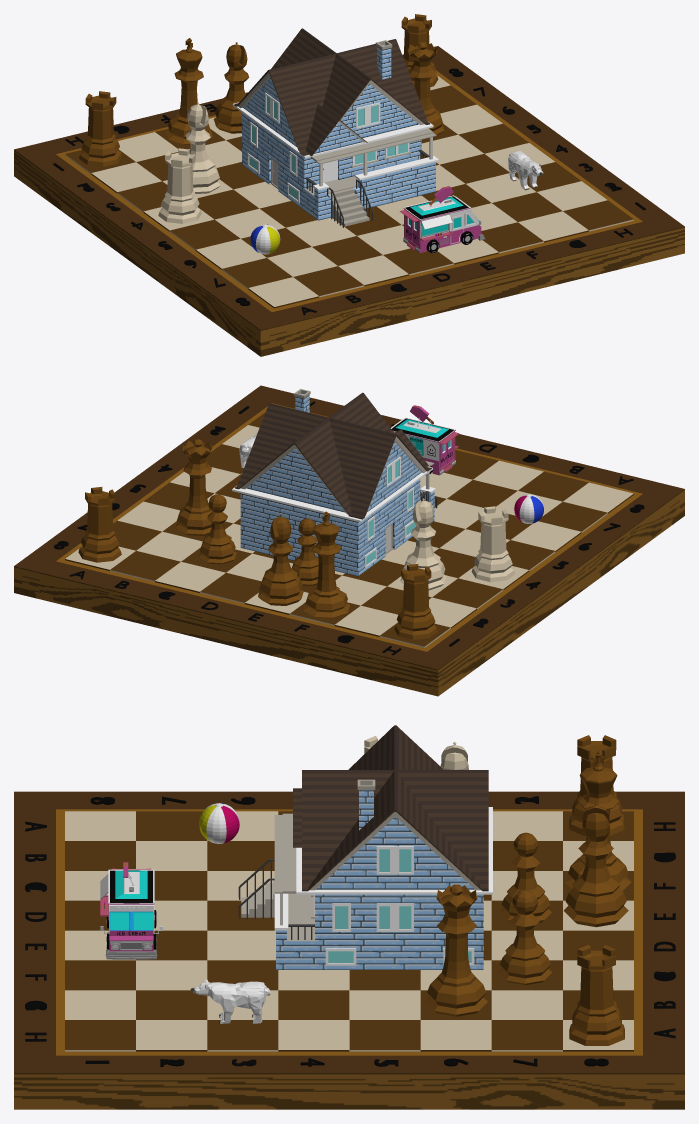
3 renders of one model, top to bottom at view 1: azimuth 30°, elevation 25°; view 2: azimuth 150°, elevation 25°; view 3: azimuth 270°, elevation 25°, orthographic. The views are drawn at different scales.
Parts seen in each view (by area): view 1: Cube.002, Cube.547, VEHICLES_ICE_CREAM_TRUCK, ANIMAL_OSO_POLAR, OBJRANDOM_BEACHBALL; view 2: Cube.002, Cube.547, VEHICLES_ICE_CREAM_TRUCK, OBJRANDOM_BEACHBALL; view 3: Cube.002, Cube.547, VEHICLES_ICE_CREAM_TRUCK, ANIMAL_OSO_POLAR, OBJRANDOM_BEACHBALL.
Part boxes in pixels (bbox=[...]): Cube.002: bbox=[14, 14, 684, 356]; Cube.547: bbox=[232, 28, 438, 227]; VEHICLES_ICE_CREAM_TRUCK: bbox=[400, 186, 485, 253]; ANIMAL_OSO_POLAR: bbox=[508, 151, 543, 190]; OBJRANDOM_BEACHBALL: bbox=[250, 224, 280, 254]; Cube.002: bbox=[14, 385, 684, 696]; Cube.547: bbox=[232, 389, 437, 576]; VEHICLES_ICE_CREAM_TRUCK: bbox=[391, 405, 459, 475]; OBJRANDOM_BEACHBALL: bbox=[514, 494, 543, 523]; Cube.002: bbox=[14, 735, 684, 1109]; Cube.547: bbox=[238, 725, 492, 969]; VEHICLES_ICE_CREAM_TRUCK: bbox=[100, 862, 162, 959]; ANIMAL_OSO_POLAR: bbox=[190, 979, 270, 1023]; OBJRANDOM_BEACHBALL: bbox=[199, 803, 239, 843].
Size of the model in its own units: 3981 by 1484 by 4012.
46 materials, 3 textured.
